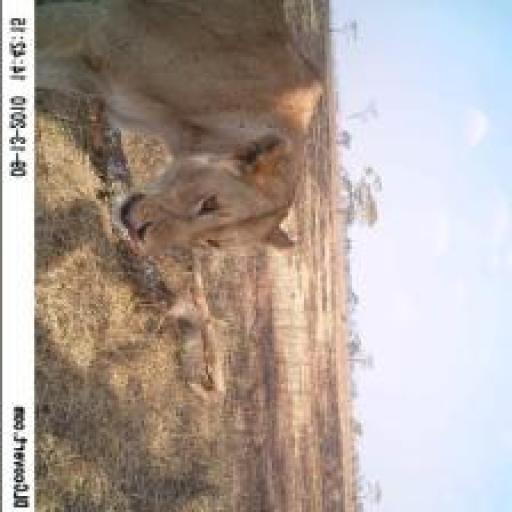lion: (36, 0, 329, 267)
